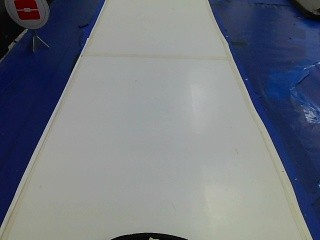company: (1, 0, 51, 29)
